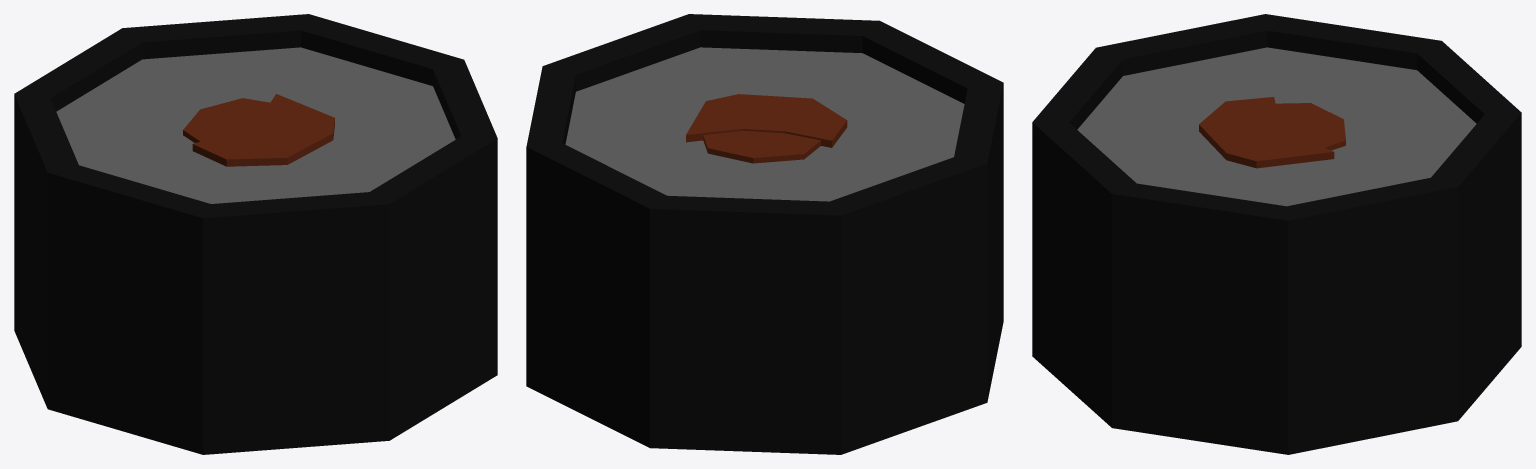
The model's file is Sushi_Roll1.obj.
The picture shows the model from 3 angles, left to right: view 1: azimuth 30°, elevation 25°; view 2: azimuth 150°, elevation 25°; view 3: azimuth 270°, elevation 25°; orthographic projection. The views are drawn at different scales.
Visible parts, largest first — view 1: Sushi_Roll1_Cylinder.011; view 2: Sushi_Roll1_Cylinder.011; view 3: Sushi_Roll1_Cylinder.011.
Part boxes in pixels (left/top/right/bottom): Sushi_Roll1_Cylinder.011: left=14, top=14, right=497, bottom=454; Sushi_Roll1_Cylinder.011: left=526, top=14, right=1003, bottom=454; Sushi_Roll1_Cylinder.011: left=1032, top=14, right=1521, bottom=454.
Bounding box in the file's own units: 0.2923 × 0.1543 × 0.2923.
